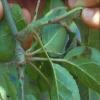Apple Scab Leaf: (63, 45, 99, 89)
